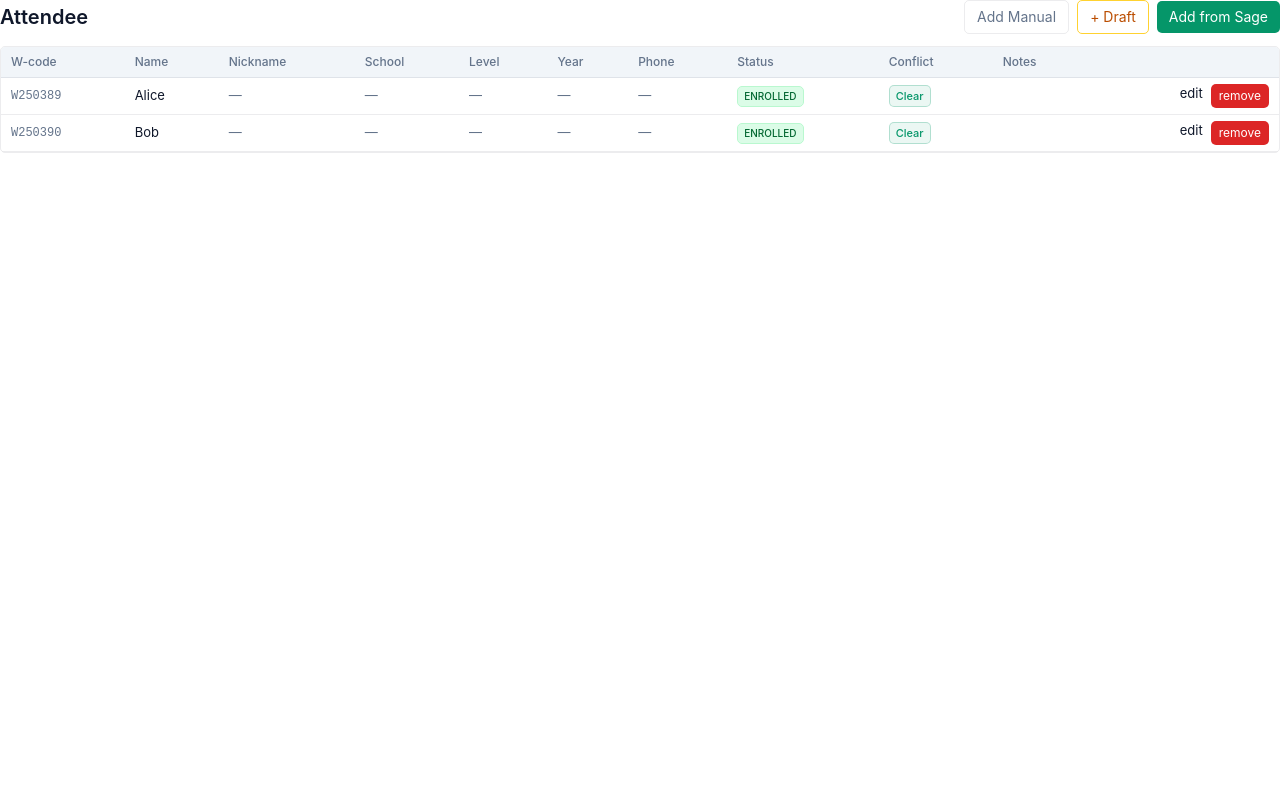
Test: AttendeeSection › CRM disabled state › opens CRM filter modal when "Add from Sage" is clicked
Click the button "Add from Sage" at (1218, 17), box x1=1157 y1=1 x2=1279 y2=33
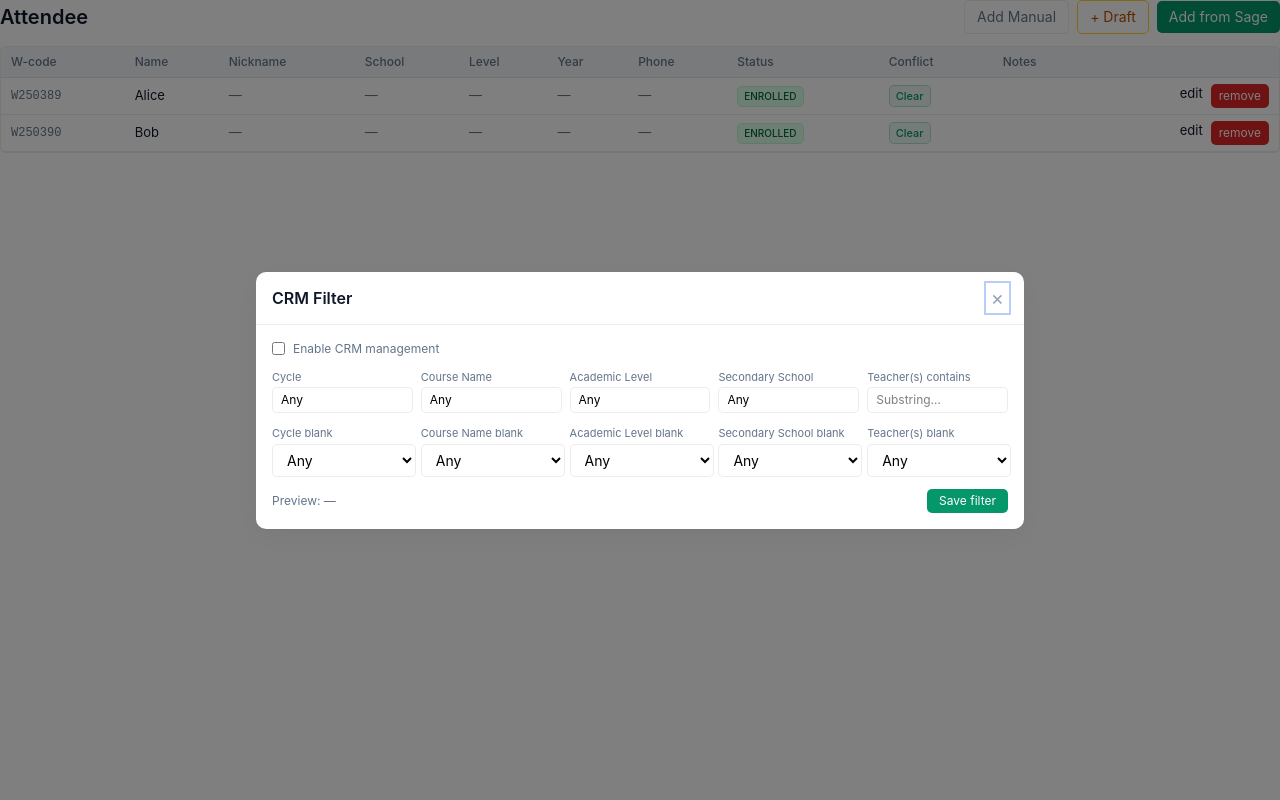
Now the heading "CRM Filter" is shown, box x1=272 y1=286 x2=352 y2=310
Now the text "Enable CRM management" is shown, box x1=272 y1=340 x2=439 y2=356
